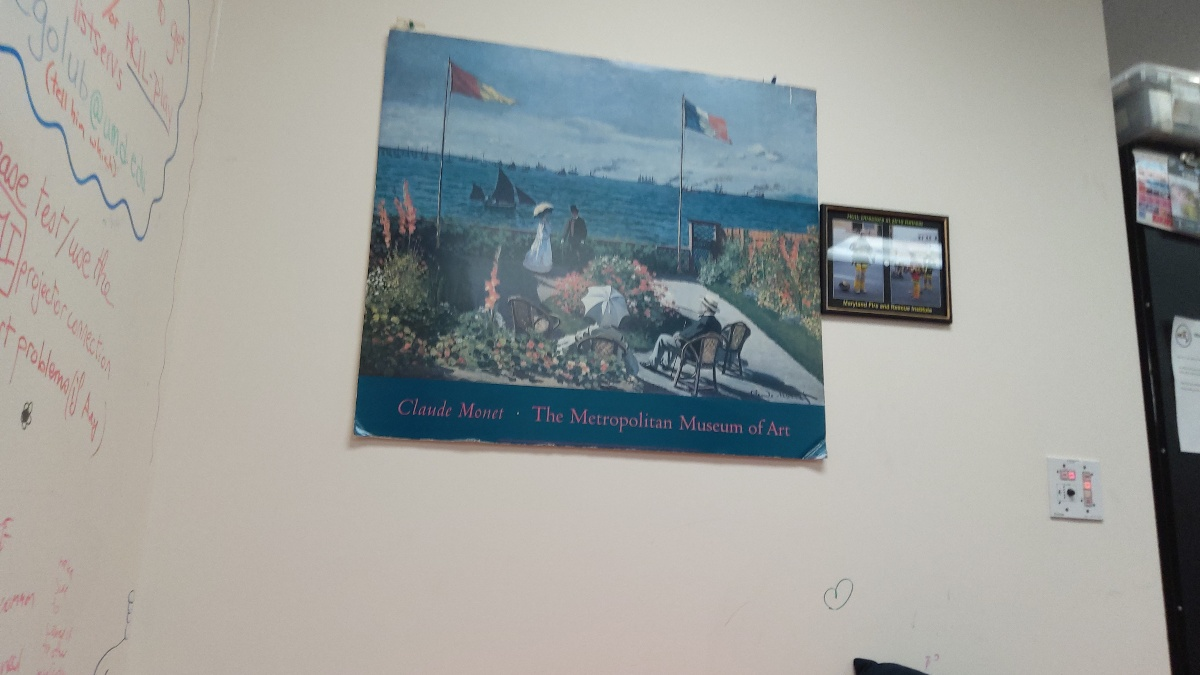poster: (324, 17, 839, 475)
